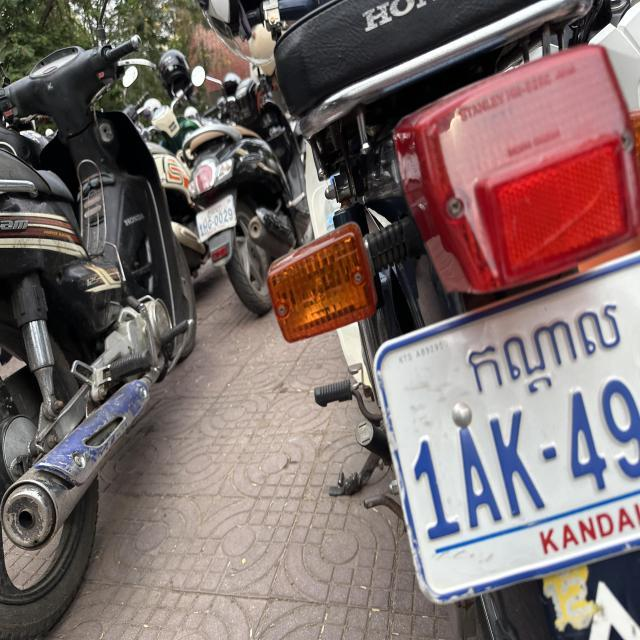Kandal: (466, 299, 620, 394)
